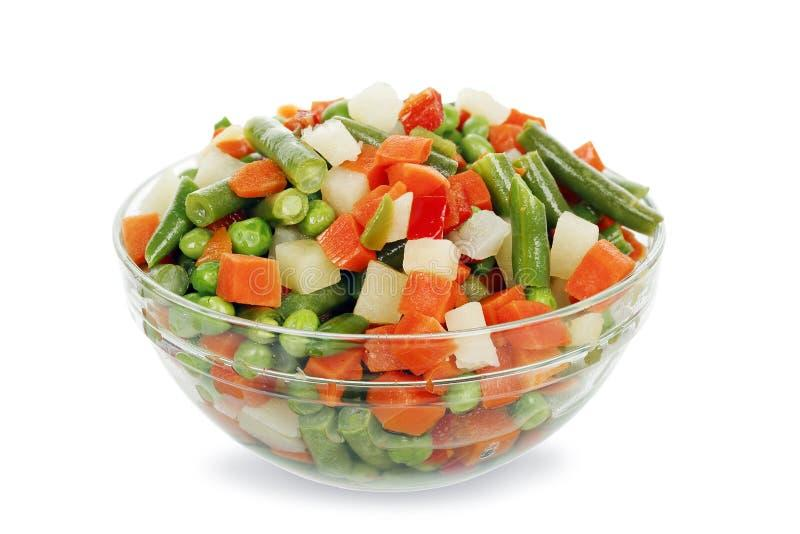beans: (514, 158, 572, 296)
carror: (314, 217, 382, 270)
carrot: (216, 255, 285, 310), (229, 160, 289, 199)
